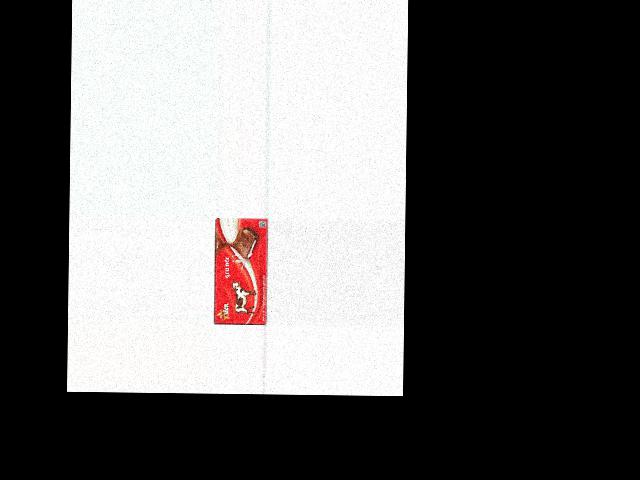chocolate: (213, 218, 268, 327)
